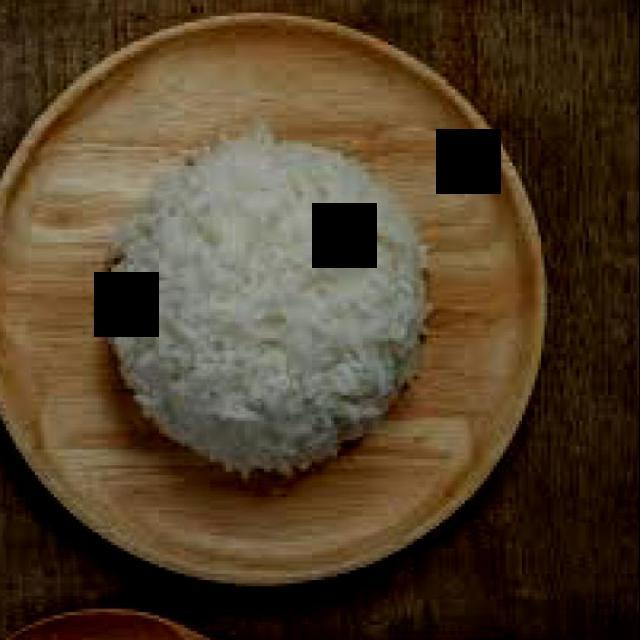rice: (107, 135, 433, 477)
